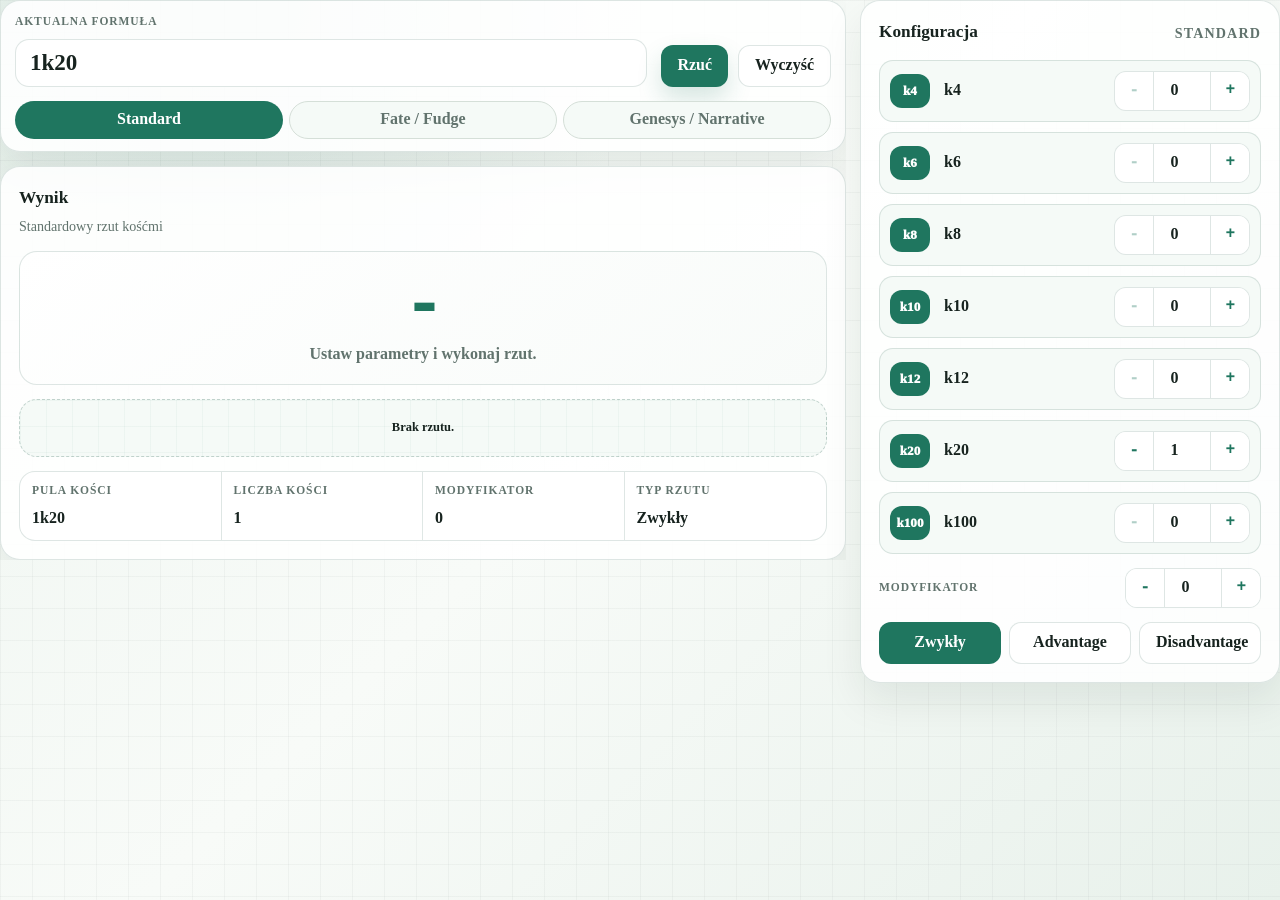
Test: DicePage › builds a standard dice pool from multiple die controls
Click the button named "Zwiększ k4" at (1230, 91), box top-left (1211, 72), bottom-right (1249, 110)
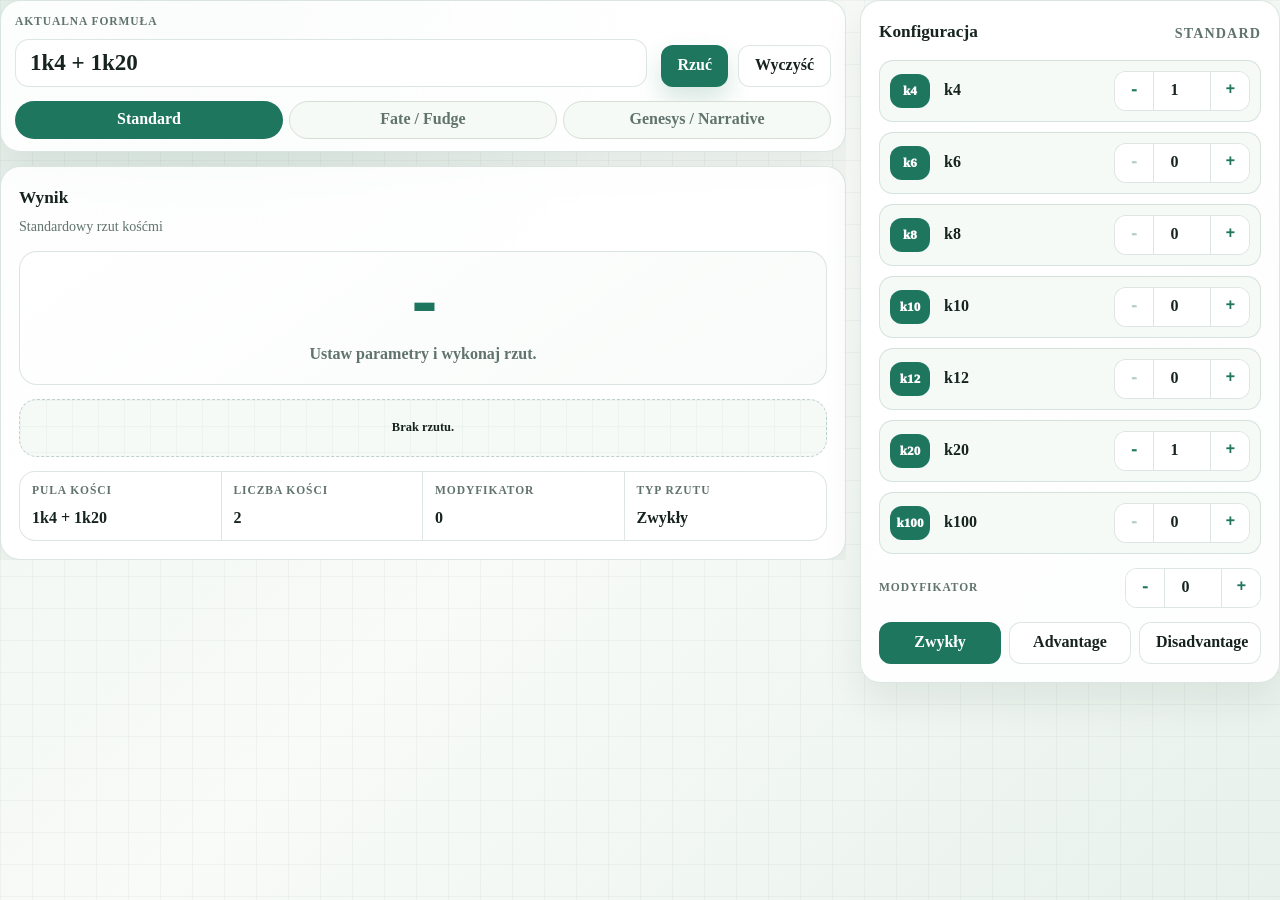
Click the button named "Zwiększ k6" at (1230, 163), box top-left (1211, 144), bottom-right (1249, 182)
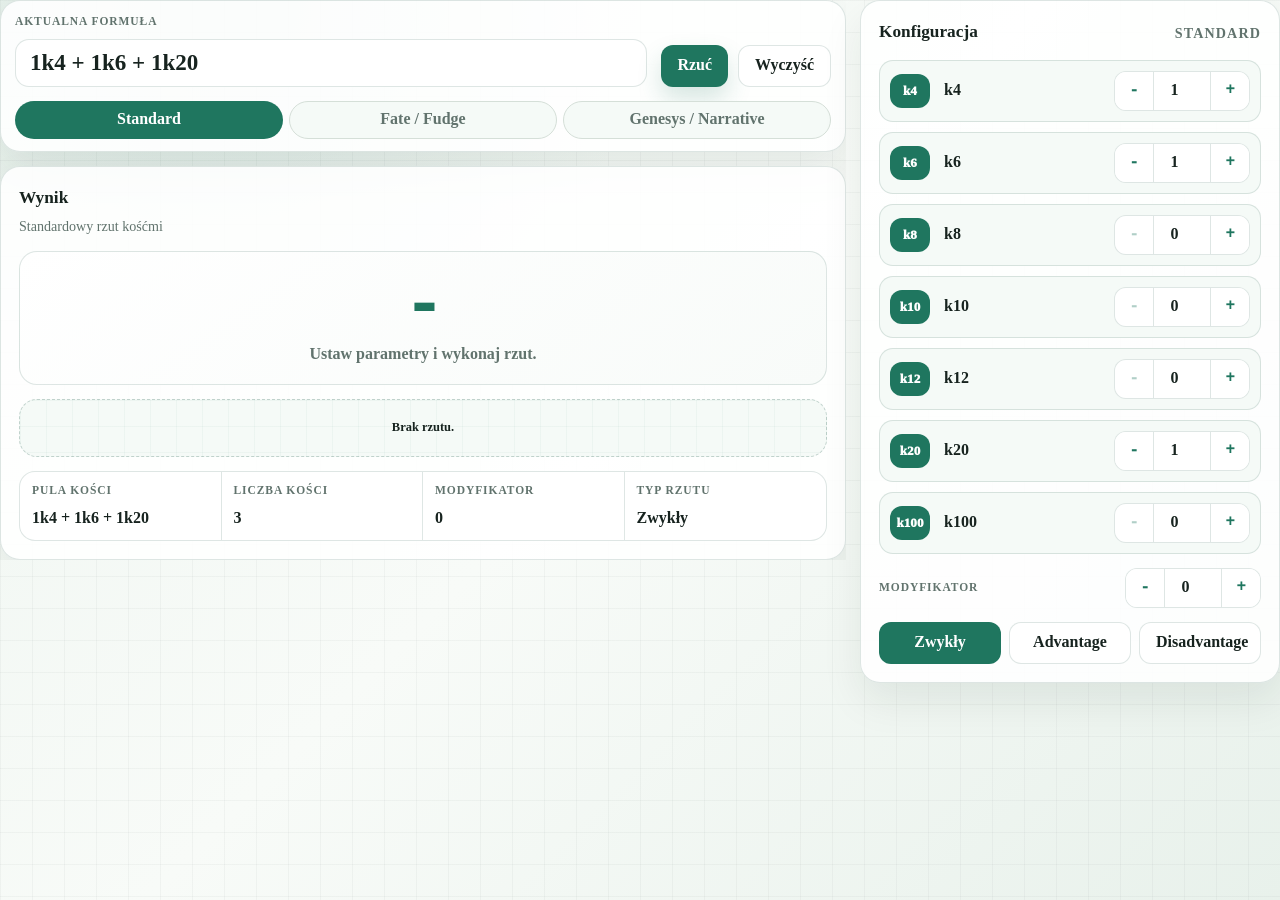
expect the text "1k4 + 1k6 + 1k20" below "Aktualna formuła" is shown: met, box top-left (30, 49), bottom-right (198, 75)
